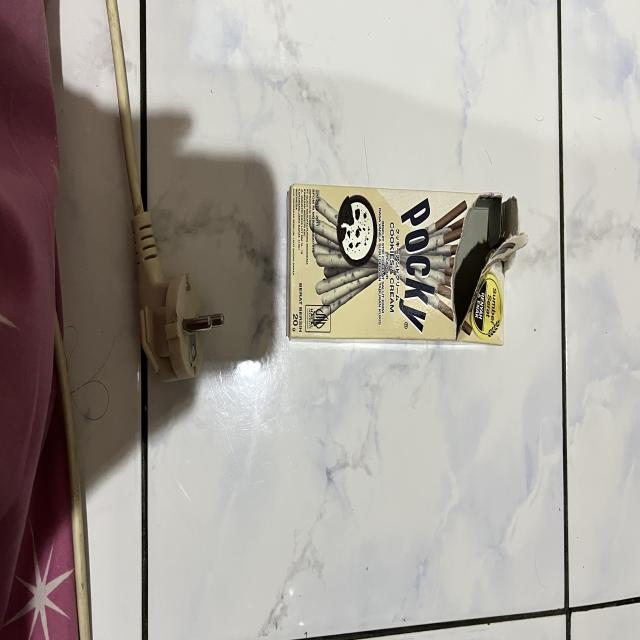Kertas: (288, 185, 506, 347)
